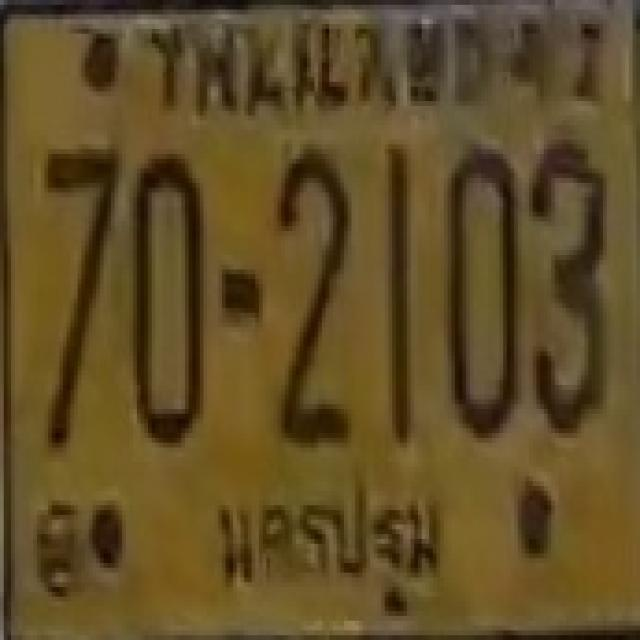0: (128, 149, 202, 443), (442, 144, 516, 433)
2: (272, 144, 350, 404), (276, 149, 350, 414), (274, 146, 348, 382)
3: (525, 135, 603, 428)
7: (42, 144, 116, 376), (42, 144, 116, 328)
NPT: (196, 469, 454, 636)
